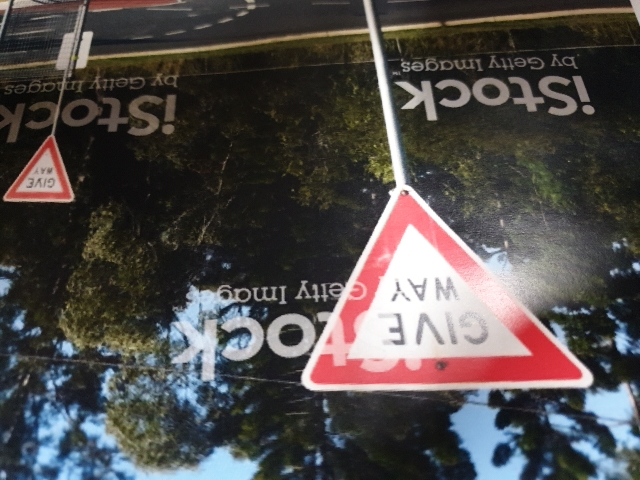giveway: (282, 197, 576, 386), (6, 137, 93, 209)
